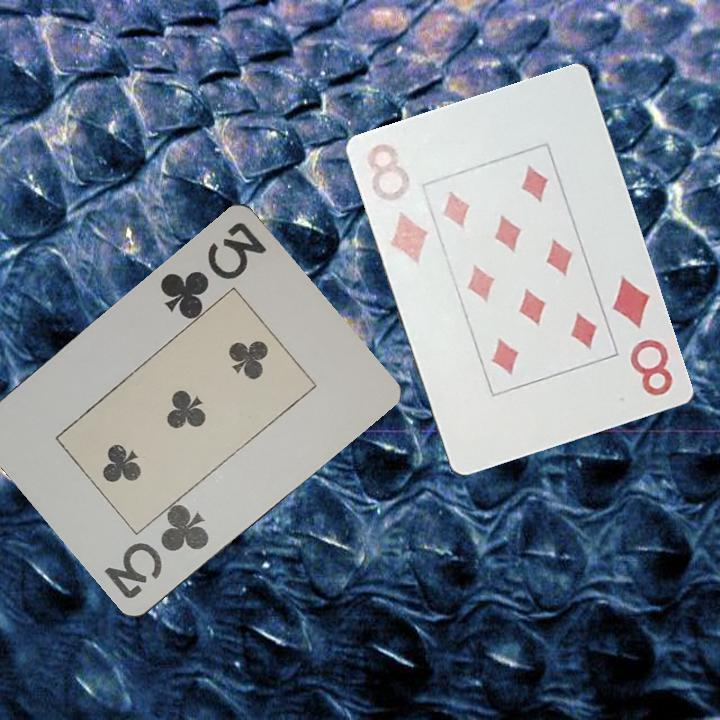3c: (156, 217, 272, 321), (101, 501, 213, 602)
8d: (363, 140, 432, 268), (609, 272, 677, 400)
